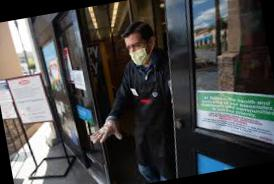with_mask: (125, 37, 152, 70)
